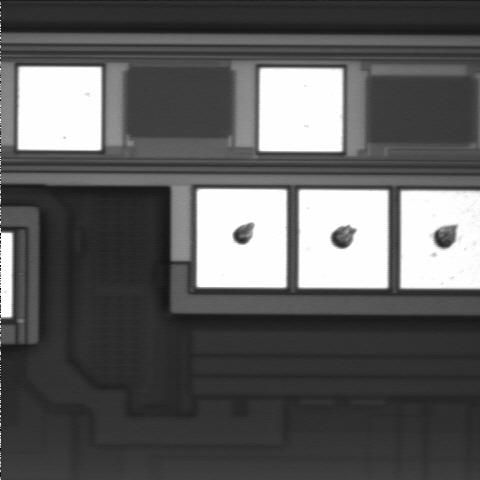pad: (197, 189, 287, 288), (299, 190, 388, 288), (259, 68, 343, 151), (18, 67, 101, 150)
